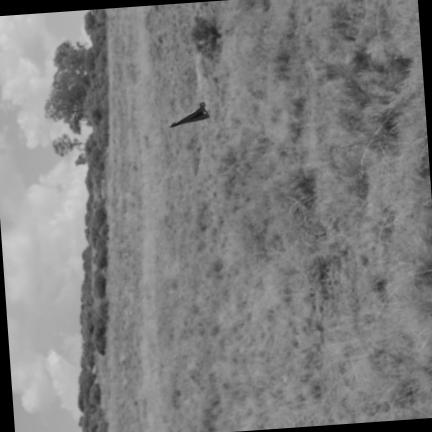Shahed: (169, 102, 208, 125)
